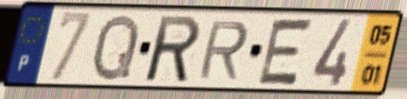4: (310, 16, 355, 90)
7: (48, 9, 97, 84)
E: (254, 16, 317, 88)
Q: (90, 11, 143, 84)
R: (144, 13, 203, 85), (195, 19, 251, 82)
